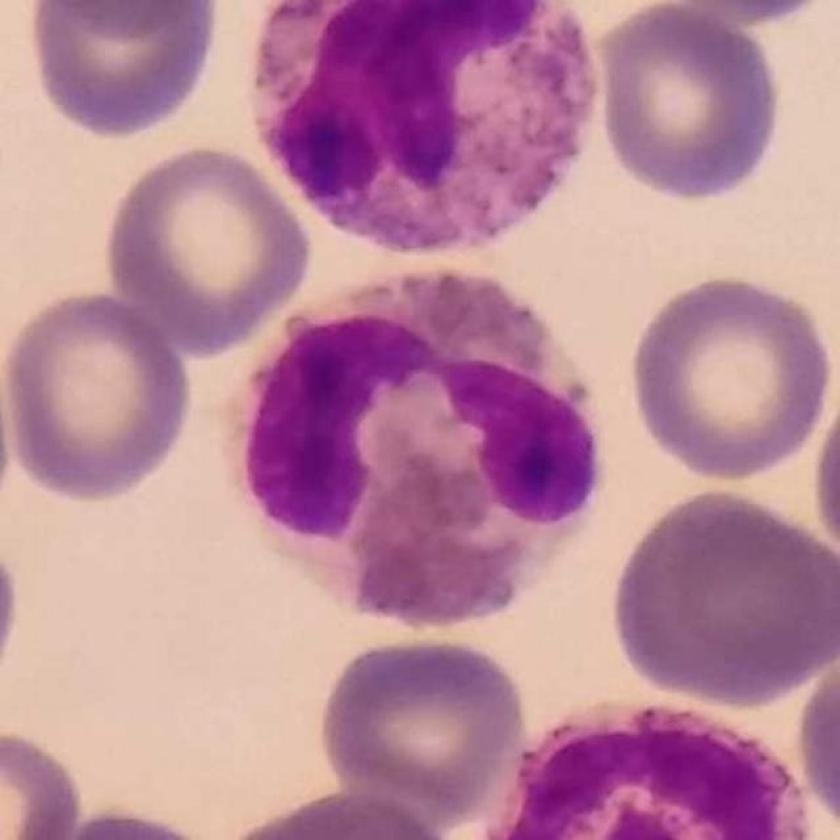eosinophil: (215, 270, 606, 638), (248, 1, 605, 256), (480, 691, 817, 840)
